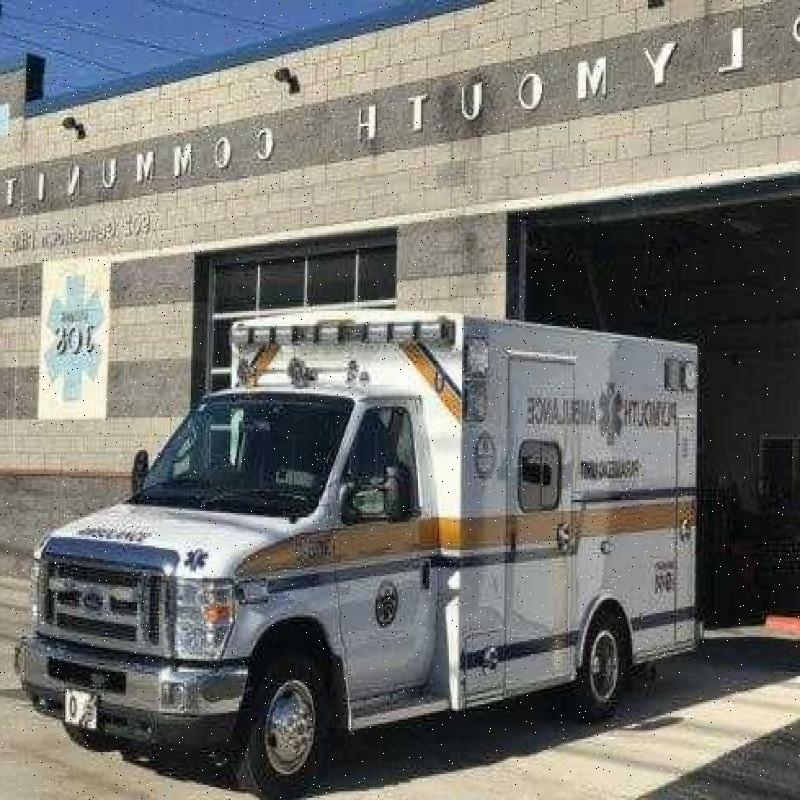AmbulanceSiren: (236, 285, 453, 376)
